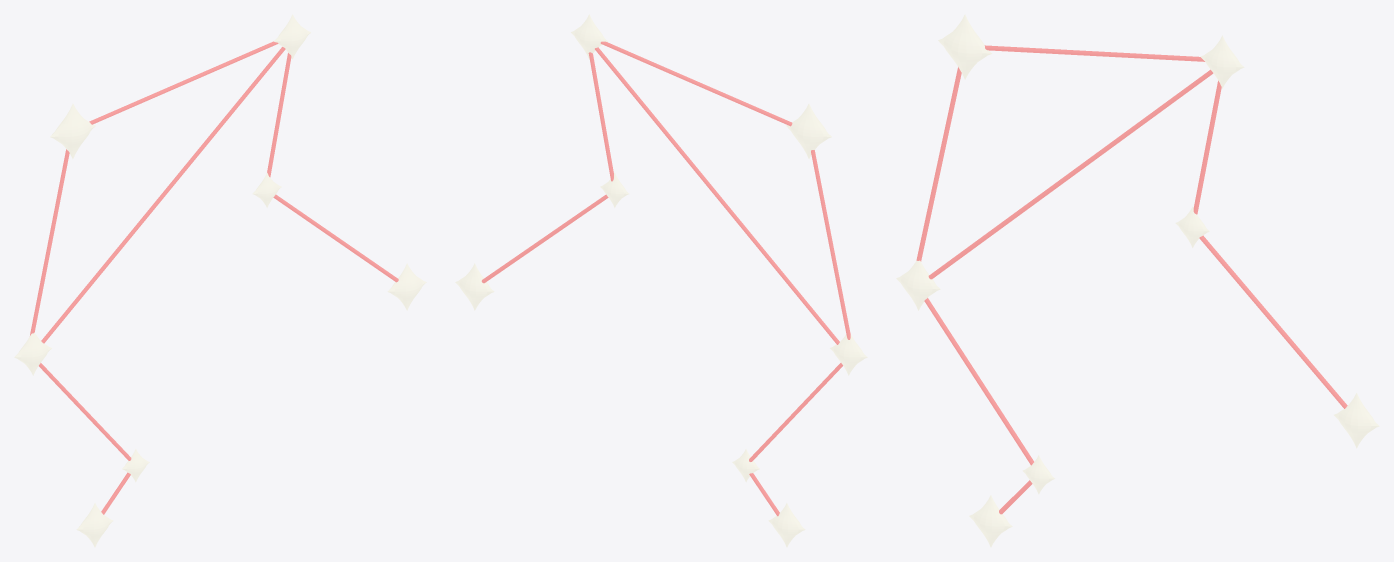
The model's file is sozvezdiya-vesi.glb.
The picture shows the model from 3 angles, left to right: view 1: azimuth 30°, elevation 25°; view 2: azimuth 150°, elevation 25°; view 3: azimuth 330°, elevation 25°; orthographic projection. The views are drawn at different scales.
Visible parts, largest first — view 1: Cylinder, Sphere.008, Sphere.004, Sphere.002, Sphere.001, Sphere.006; view 2: Cylinder, Sphere.008, Sphere.004, Sphere.002, Sphere.006, Sphere.001; view 3: Cylinder, Sphere.008, Sphere.004, Sphere.002, Sphere.001, Sphere.006, Sphere.003.
Part boxes in pixels (x1,y1,x2,y2): Cylinder: (30, 41, 398, 514); Sphere.008: (50, 103, 95, 158); Sphere.004: (387, 263, 426, 310); Sphere.002: (14, 332, 51, 375); Sphere.001: (274, 14, 310, 59); Sphere.006: (76, 503, 113, 547); Cylinder: (481, 41, 850, 516); Sphere.008: (786, 103, 831, 158); Sphere.004: (455, 263, 494, 310); Sphere.002: (830, 334, 867, 375); Sphere.006: (768, 503, 805, 547); Sphere.001: (571, 14, 607, 59); Cylinder: (916, 45, 1347, 514); Sphere.008: (938, 14, 991, 79); Sphere.004: (1334, 393, 1379, 448); Sphere.002: (896, 260, 940, 310); Sphere.001: (1200, 35, 1244, 88); Sphere.006: (969, 495, 1012, 547); Sphere.003: (1175, 206, 1209, 247).
Bounding box in the file's own units: 0.1328 × 0.1493 × 0.00671.
